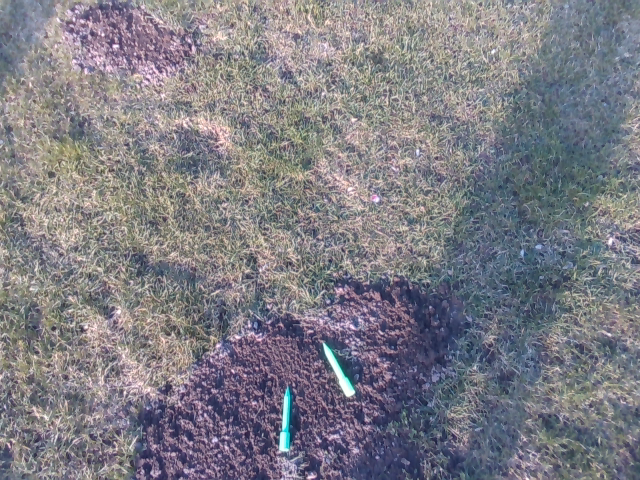Probe: (318, 337, 356, 402), (275, 381, 298, 456)
